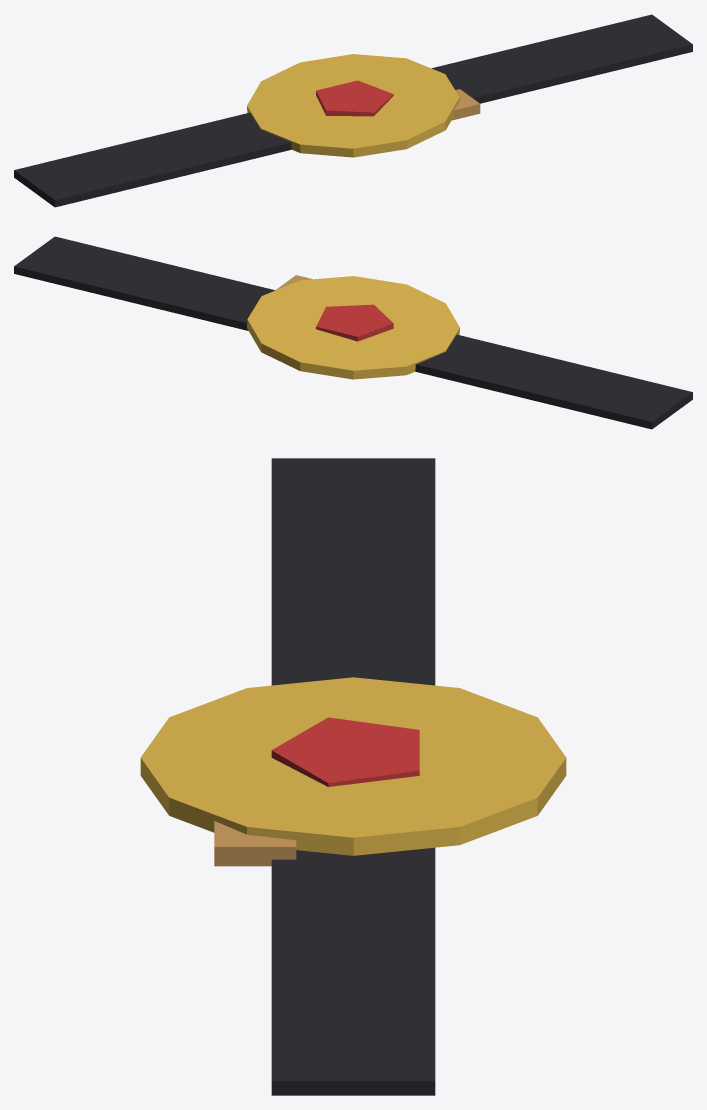
Rendered from gym_cardboard_belt.glb.
3 views of the same model, one above another, from view 1: azimuth 30°, elevation 25°; view 2: azimuth 150°, elevation 25°; view 3: azimuth 270°, elevation 25° (orthographic). The views are drawn at different scales.
Parts seen in each view (by area): view 1: strap_belt_black, plate_cardboard_gold, plate_ribbon_red, plate_box_card; view 2: strap_belt_black, plate_cardboard_gold, plate_ribbon_red; view 3: strap_belt_black, plate_cardboard_gold, plate_ribbon_red, plate_box_card.
Boxes of the visible parts, x1,y1,x2,y2 form: strap_belt_black: (14,14,692,207); plate_cardboard_gold: (247,54,459,157); plate_ribbon_red: (316,80,393,116); plate_box_card: (452,89,480,120); strap_belt_black: (14,236,692,429); plate_cardboard_gold: (247,276,459,379); plate_ribbon_red: (316,304,393,341); strap_belt_black: (271,458,435,1095); plate_cardboard_gold: (140,677,566,855); plate_ribbon_red: (271,717,419,786); plate_box_card: (214,821,296,866).
Bounding box in the file's own units: 0.9 × 0.025 × 0.26.
